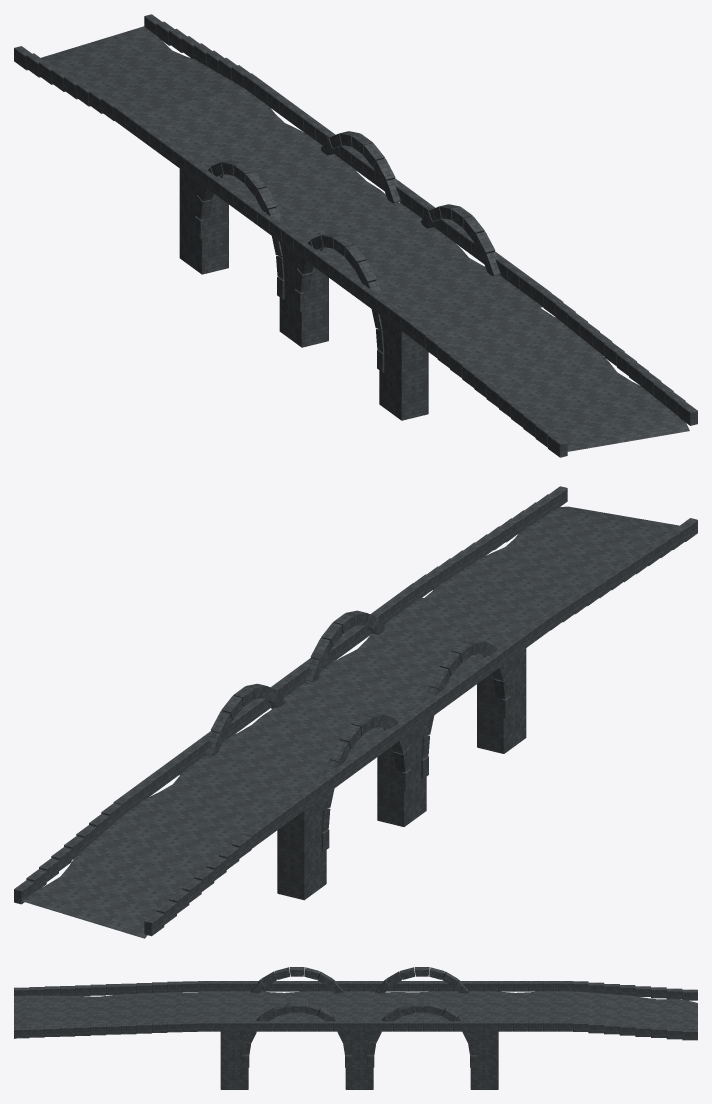
File: bridges.glb
3 renders of one model, top to bottom at view 1: azimuth 30°, elevation 25°; view 2: azimuth 150°, elevation 25°; view 3: azimuth 270°, elevation 25°, orthographic. The views are drawn at different scales.
Parts seen in each view (by area): view 1: ENV_R5_Stone; view 2: ENV_R5_Stone; view 3: ENV_R5_Stone.
Part boxes in pixels (bbox=[...]): ENV_R5_Stone: bbox=[14, 14, 697, 457]; ENV_R5_Stone: bbox=[14, 486, 697, 938]; ENV_R5_Stone: bbox=[14, 967, 697, 1089].
Bounding box in the file's own units: 13.6 × 12.63 × 93.02.
1 material, 1 textured.
